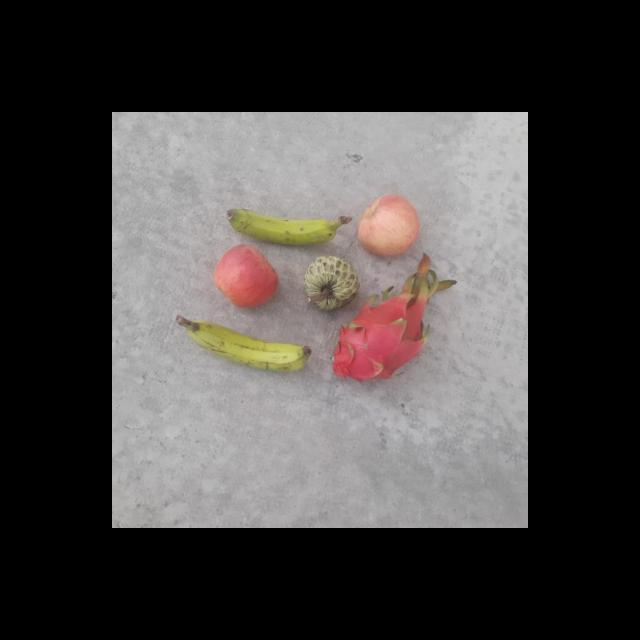Sakya fruit: (303, 252, 360, 308)
apple: (212, 244, 280, 308), (359, 195, 422, 256)
banana: (194, 317, 312, 379), (222, 202, 346, 246)
pitaya: (329, 299, 430, 381)
